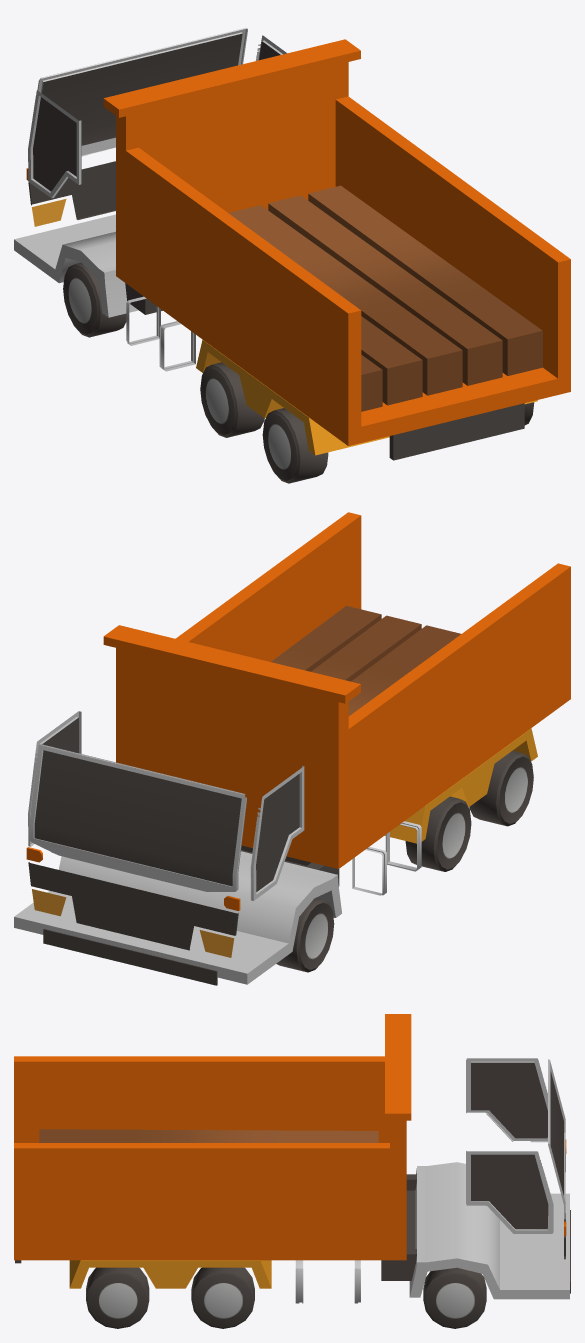
The model's file is truck.fbx.
The picture shows the model from 3 angles, top to bottom: view 1: azimuth 30°, elevation 25°; view 2: azimuth 150°, elevation 25°; view 3: azimuth 270°, elevation 25°; orthographic projection. The views are drawn at different scales.
Parts seen in each view (by area): view 1: Truck, trunk, wheels1.002, wheels1.001, wheels1; view 2: Truck, trunk, wheels1.001, wheels1.002, wheels1; view 3: Truck, trunk, wheels1.002, wheels1.001, wheels1.
Part boxes in pixels (left/top/right/bottom): Truck: left=14, top=28, right=570, bottom=460; trunk: left=228, top=185, right=542, bottom=411; wheels1.002: left=262, top=402, right=534, bottom=483; wheels1.001: left=200, top=362, right=264, bottom=437; wheels1: left=63, top=262, right=126, bottom=337; Truck: left=14, top=512, right=570, bottom=985; trunk: left=271, top=606, right=460, bottom=716; wheels1.001: left=405, top=796, right=471, bottom=871; wheels1.002: left=469, top=751, right=533, bottom=826; wheels1: left=276, top=897, right=334, bottom=972; Truck: left=14, top=1014, right=570, bottom=1303; trunk: left=39, top=1129, right=378, bottom=1142; wheels1.002: left=86, top=1267, right=149, bottom=1328; wheels1.001: left=191, top=1267, right=254, bottom=1328; wheels1: left=423, top=1267, right=486, bottom=1328.
Size of the model in its own units: 9 by 8.57 by 19.95.
Materials: 2 (2 with a texture image).
